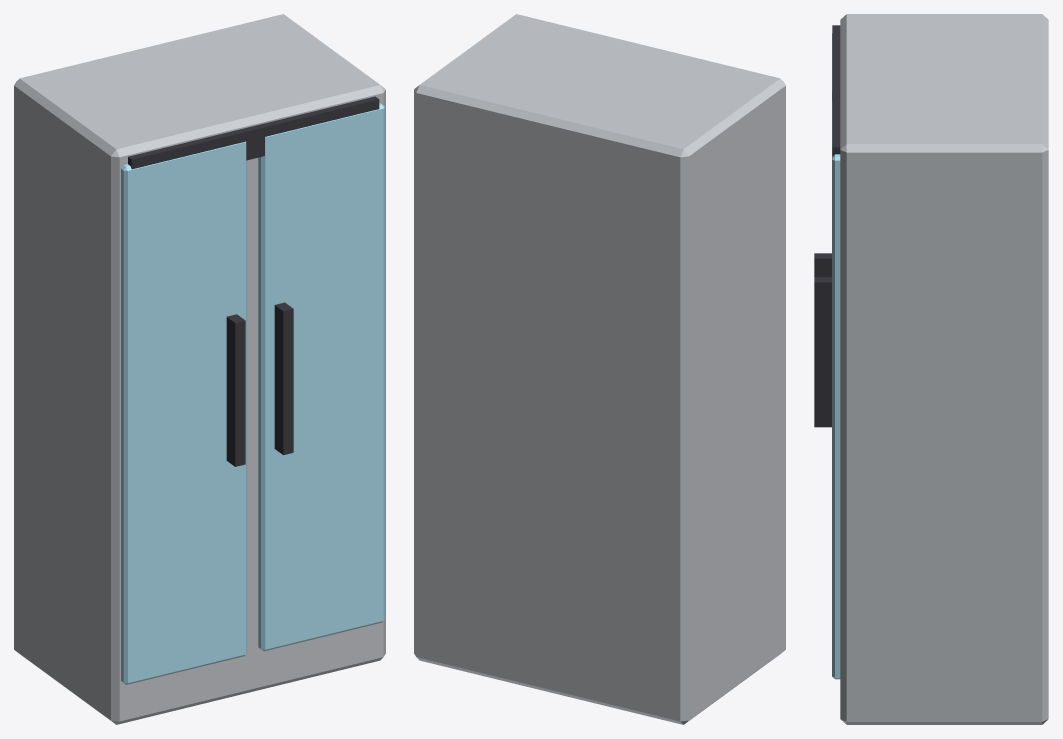
The model's file is DrinkFridge.fbx.
The picture shows the model from 3 angles, left to right: view 1: azimuth 30°, elevation 25°; view 2: azimuth 150°, elevation 25°; view 3: azimuth 270°, elevation 25°; orthographic projection.
Visible parts, largest first — view 1: DrinkFridge; view 2: DrinkFridge; view 3: DrinkFridge.
Part boxes in pixels (x1,y1,x2,y2): DrinkFridge: (14, 14, 385, 724); DrinkFridge: (414, 14, 785, 724); DrinkFridge: (814, 14, 1048, 724).
Bounding box in the file's own units: 4 × 8 × 2.92.
Materials: 1 (1 with a texture image).
